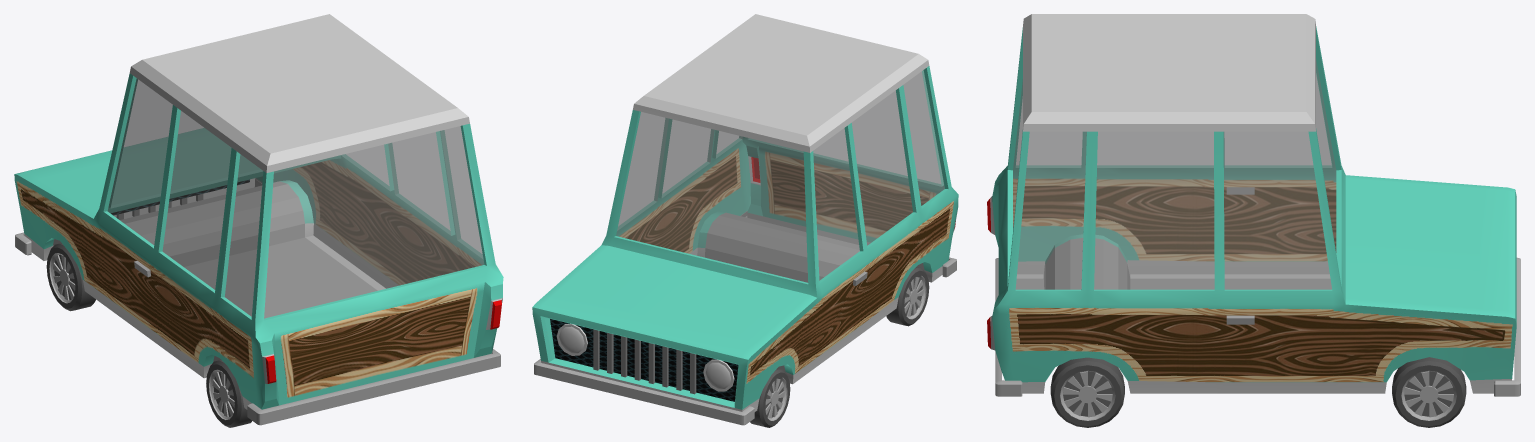
3 views of the same model, side by side, from view 1: azimuth 30°, elevation 25°; view 2: azimuth 150°, elevation 25°; view 3: azimuth 270°, elevation 25° (orthographic). The views are drawn at different scales.
Visible parts, largest first — view 1: Car_Body, Bumper_Rear, Wheel_LF, Wheel_LR; view 2: Car_Body, Bumper_Front, Grille, Wheel_LR, Wheel_LF, L_HeadLight, R_HeadLIght; view 3: Car_Body, Wheel_RR, Wheel_RF, Bumper_Front, Bumper_Rear.
Part boxes in pixels (bbox=[...]): Car_Body: bbox=[14, 14, 503, 409]; Bumper_Rear: bbox=[247, 349, 500, 425]; Wheel_LF: bbox=[46, 243, 95, 311]; Wheel_LR: bbox=[206, 360, 251, 427]; Car_Body: bbox=[532, 14, 958, 411]; Bumper_Front: bbox=[534, 359, 754, 425]; Grille: bbox=[593, 329, 696, 394]; Wheel_LR: bbox=[886, 267, 929, 326]; Wheel_LF: bbox=[750, 368, 790, 427]; L_HeadLight: bbox=[703, 359, 734, 391]; R_HeadLIght: bbox=[556, 323, 587, 355]; Car_Body: bbox=[987, 14, 1516, 393]; Wheel_RR: bbox=[1050, 357, 1124, 427]; Wheel_RF: bbox=[1392, 357, 1466, 427]; Bumper_Front: bbox=[1494, 257, 1520, 396]; Bumper_Rear: bbox=[995, 258, 1022, 396].
Bounding box in the file's own units: 7.19 × 7.76 × 12.25.
